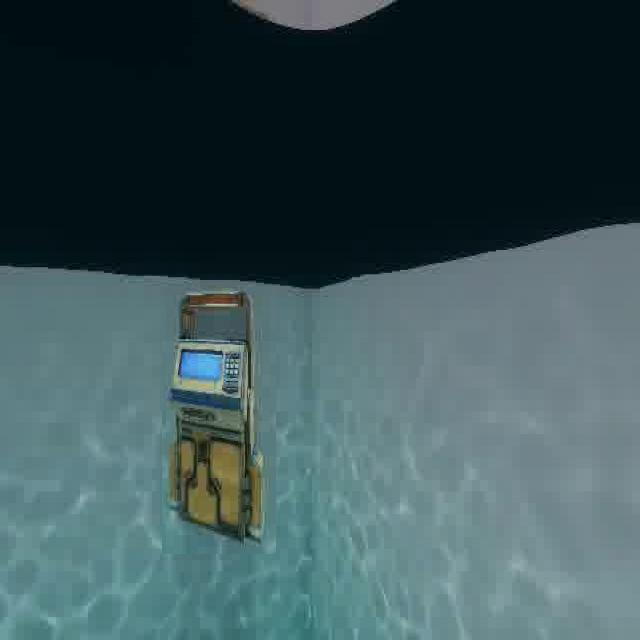Control Panel: (162, 288, 276, 556)
